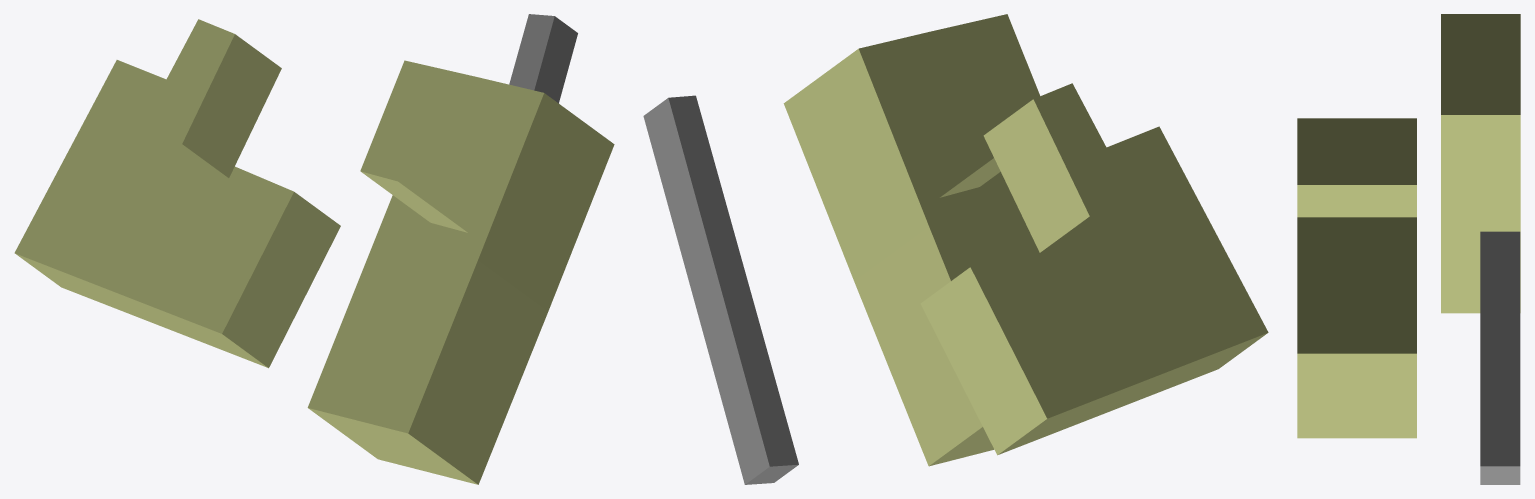
3 renders of one model, left to right at view 1: azimuth 30°, elevation 25°; view 2: azimuth 150°, elevation 25°; view 3: azimuth 270°, elevation 25°, orthographic. The views are drawn at different scales.
Parts seen in each view (by area): view 1: 0_1_2_0_1_3_0_0_2; view 2: 0_1_2_0_1_3_0_0_2; view 3: 0_1_2_0_1_3_0_0_2.
Boxes of the visible parts, x1,y1,x2,y2 form: 0_1_2_0_1_3_0_0_2: (14,14,614,484); 0_1_2_0_1_3_0_0_2: (643,14,1268,484); 0_1_2_0_1_3_0_0_2: (1297,14,1520,484).
Size of the model in its own units: 39.91 by 28.71 by 16.79.
